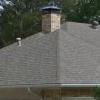Chimney: (34, 3, 79, 32)
